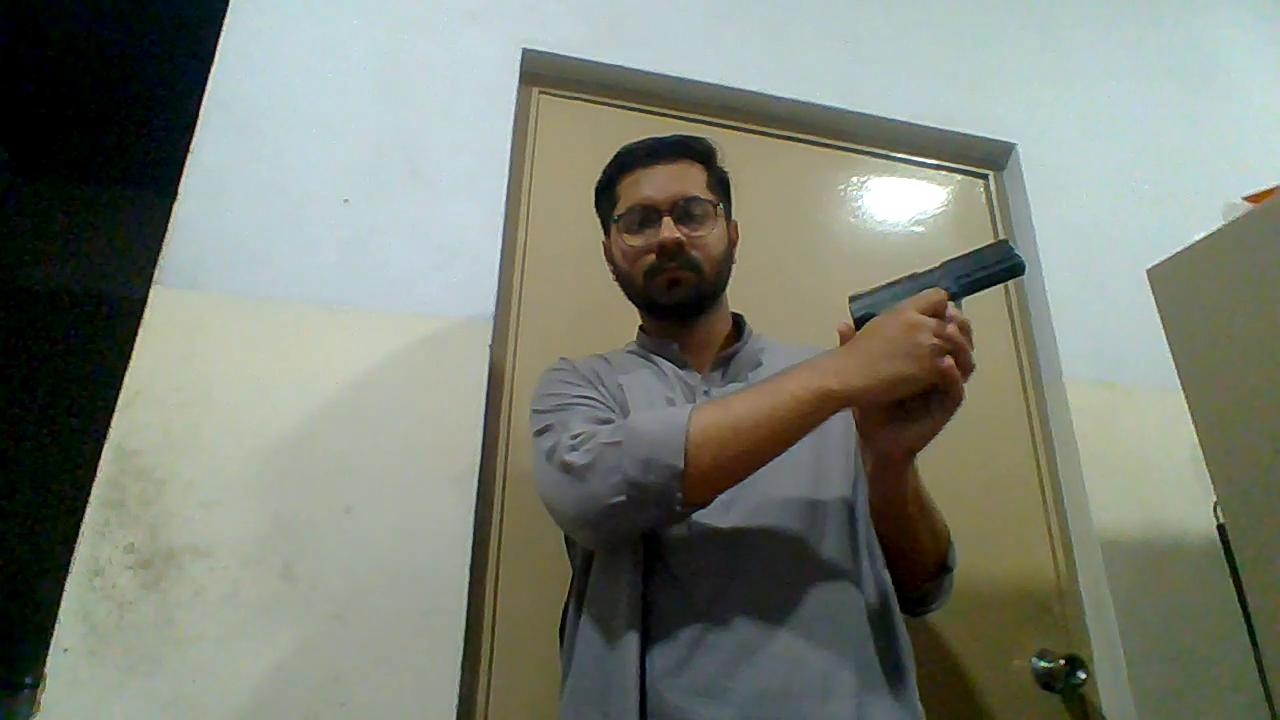criminal: (527, 132, 1030, 720)
weapon: (846, 233, 1030, 335)
